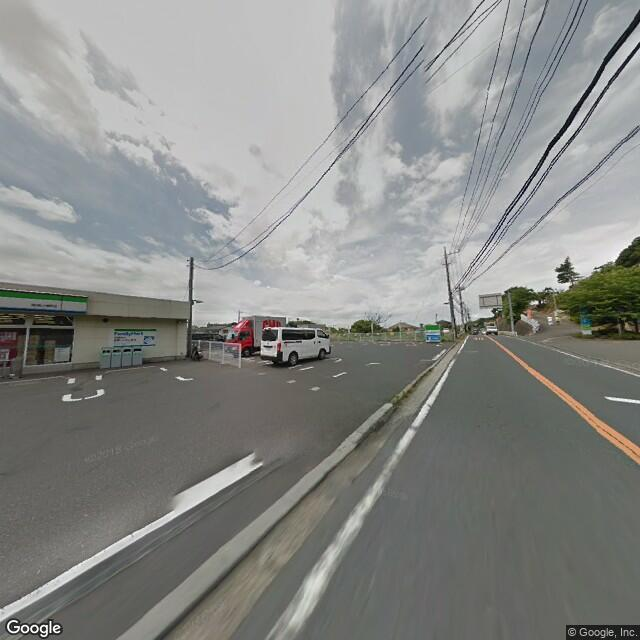family_mart: (2, 286, 87, 317), (110, 325, 146, 341), (423, 321, 442, 343)
